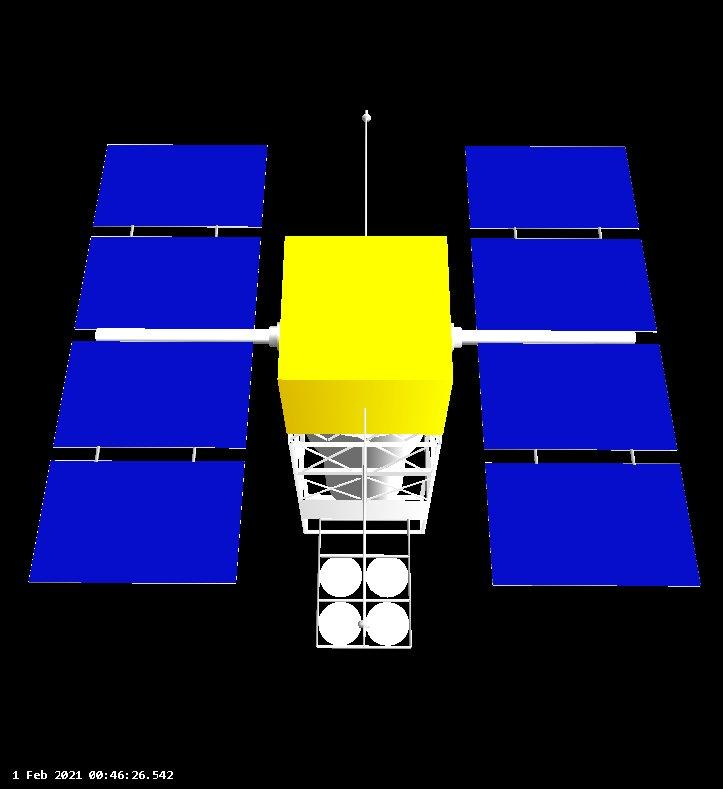antenna: (354, 104, 379, 242), (313, 602, 365, 650), (321, 555, 366, 601), (366, 598, 410, 645), (364, 555, 408, 599)
body: (277, 230, 457, 540)
solar: (23, 137, 272, 588), (459, 138, 705, 592)
